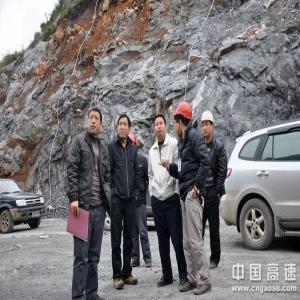none: (86, 107, 104, 139), (153, 112, 169, 145), (116, 113, 132, 143)
red: (173, 100, 195, 139)
white: (200, 109, 216, 143)
